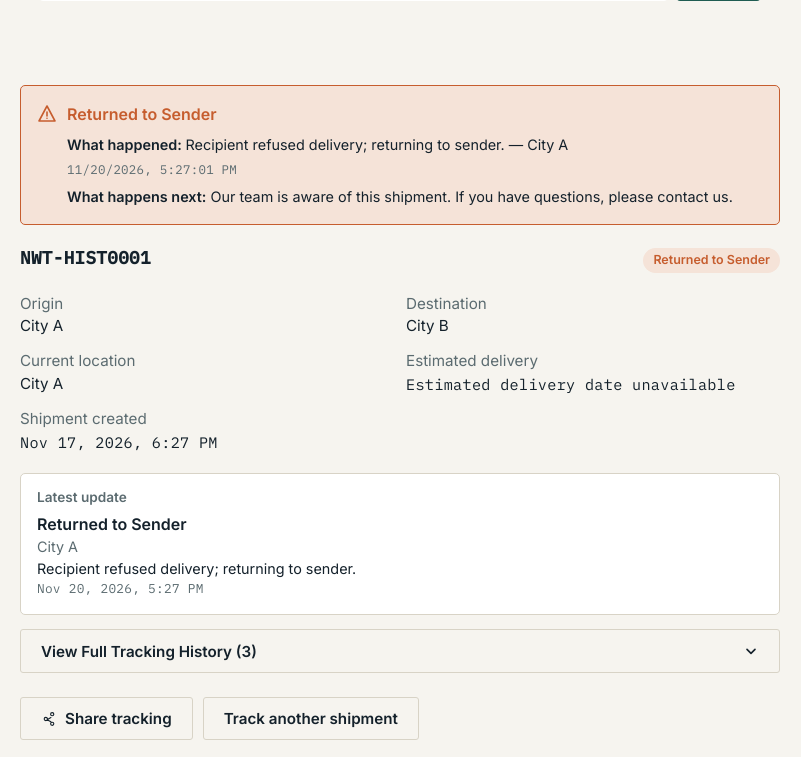
Test case: Returned to Sender on the public tracking page › shows the correct status, an explanatory banner, no progress bar, and never claims delivery
The image size is (801, 757).
(page scrolled)
expect the 1st text "Returned to Sender" is shown: met, box left=67, top=104, right=217, bottom=124
expect the message shows "Recipient refused delivery": met, box left=186, top=136, right=505, bottom=153
Note: The full history, including the return, is available on demand.
Click the button "View Full Tracking History (3)" at (137, 651), box left=20, top=629, right=780, bottom=673
(page scrolled)
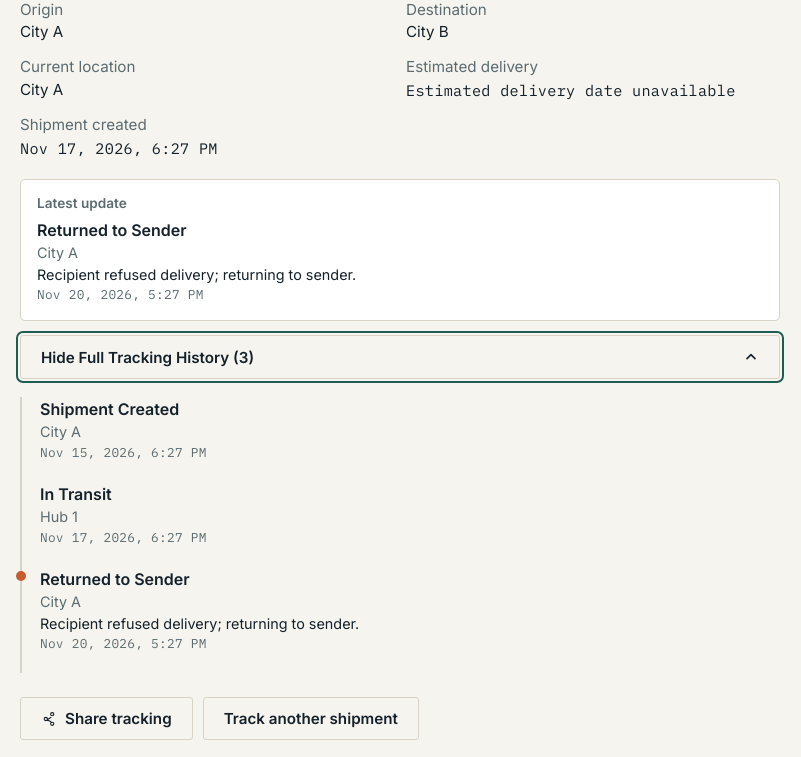
expect the number of list items is 3: met, box left=40, top=399, right=207, bottom=461; left=40, top=484, right=207, bottom=546; left=16, top=569, right=359, bottom=652
expect the list item that starts with "Returned to Sender" is shown: met, box left=40, top=569, right=190, bottom=589
